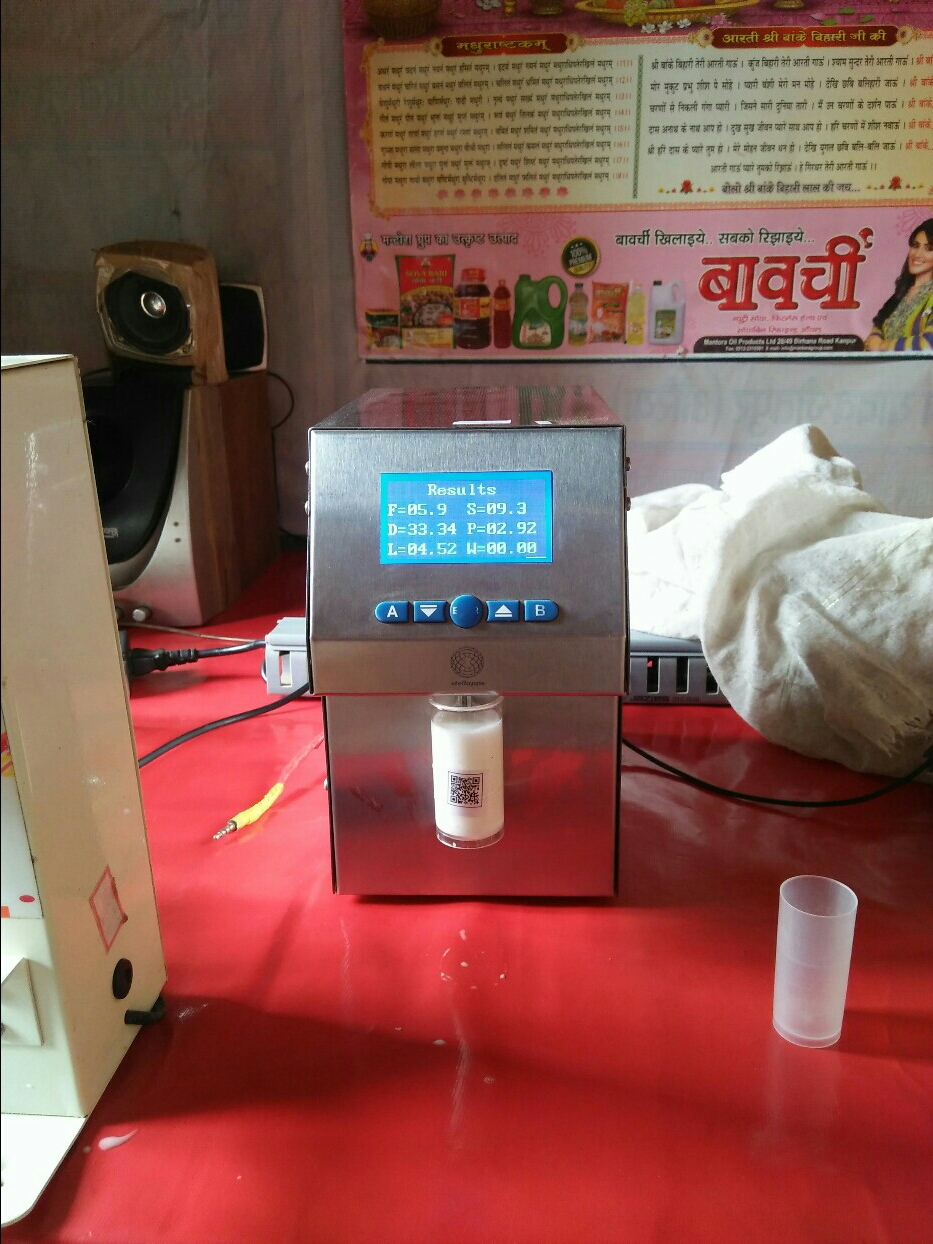lcd: (361, 463, 580, 576)
qr: (435, 767, 518, 823)
